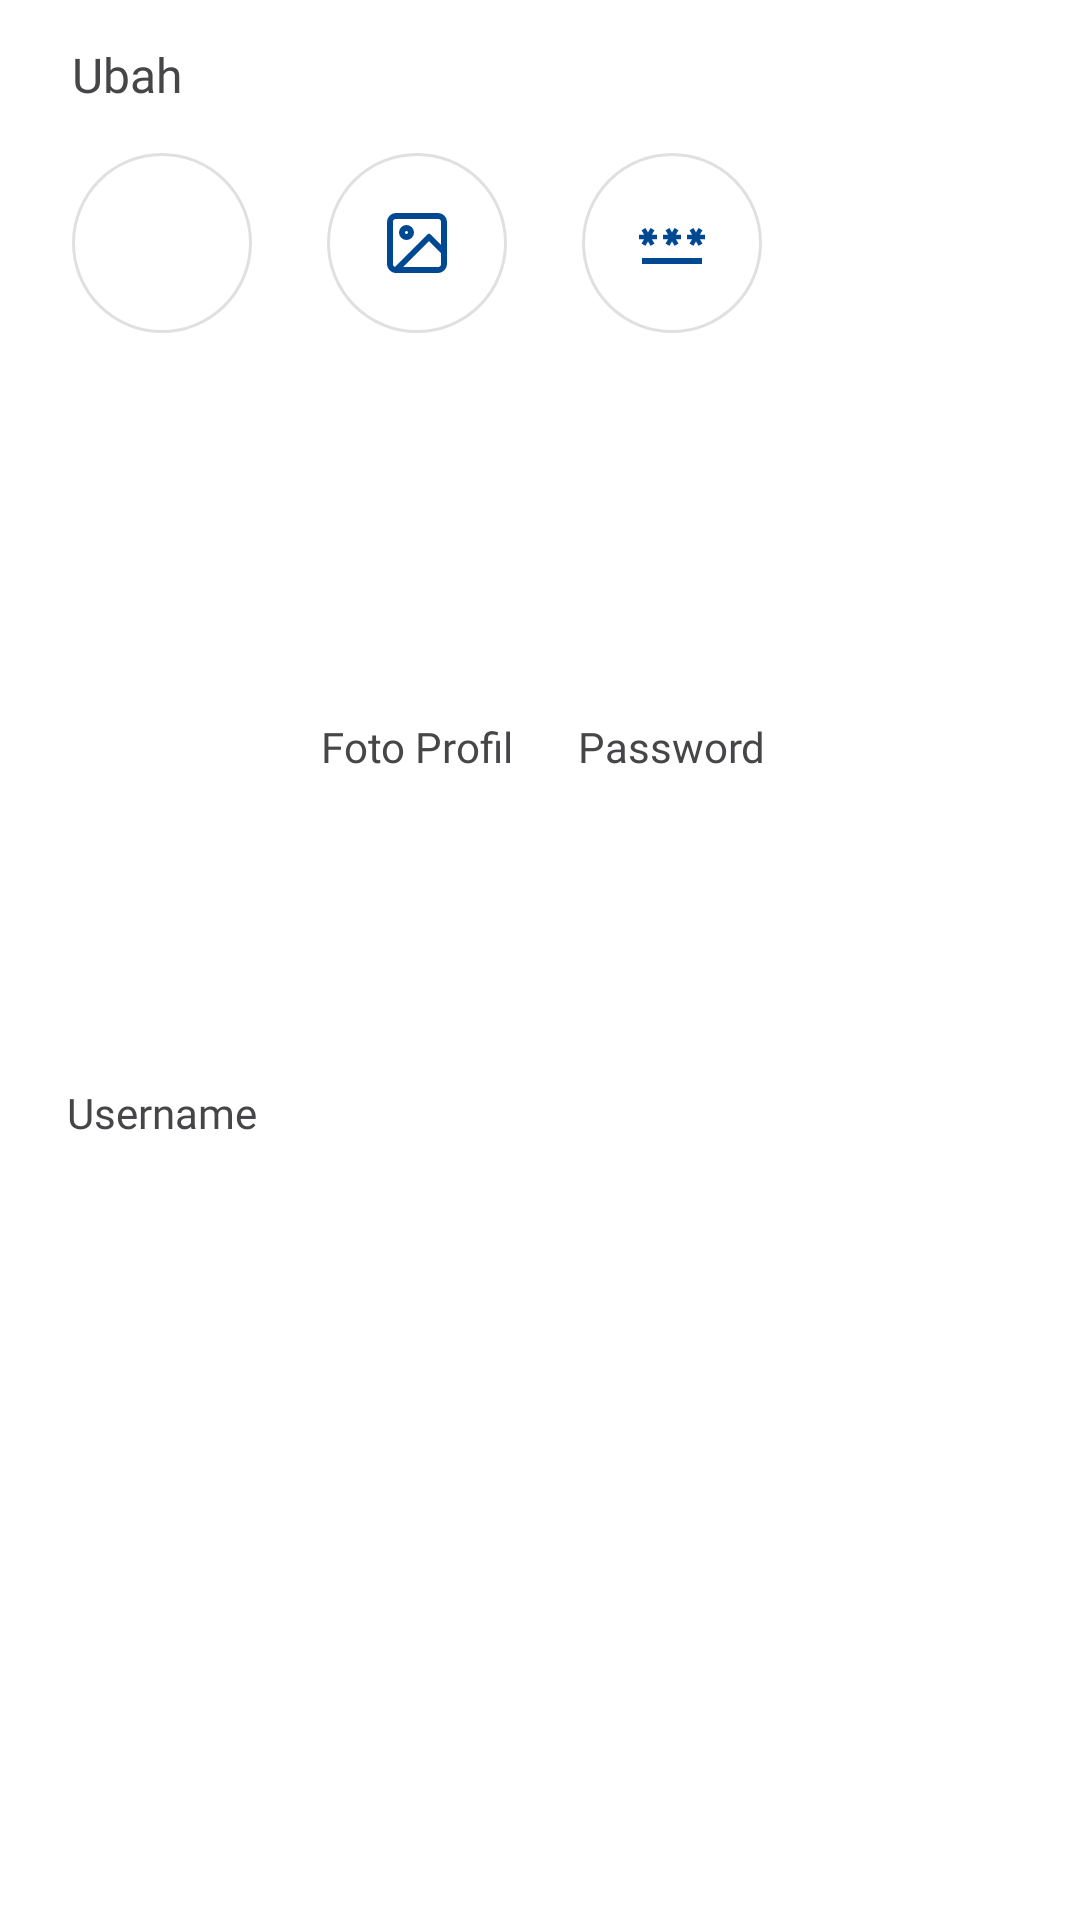

Icons on this 1080w x 1920h Android screen, each with the point to tap as (x,y):
password: (672,243)
